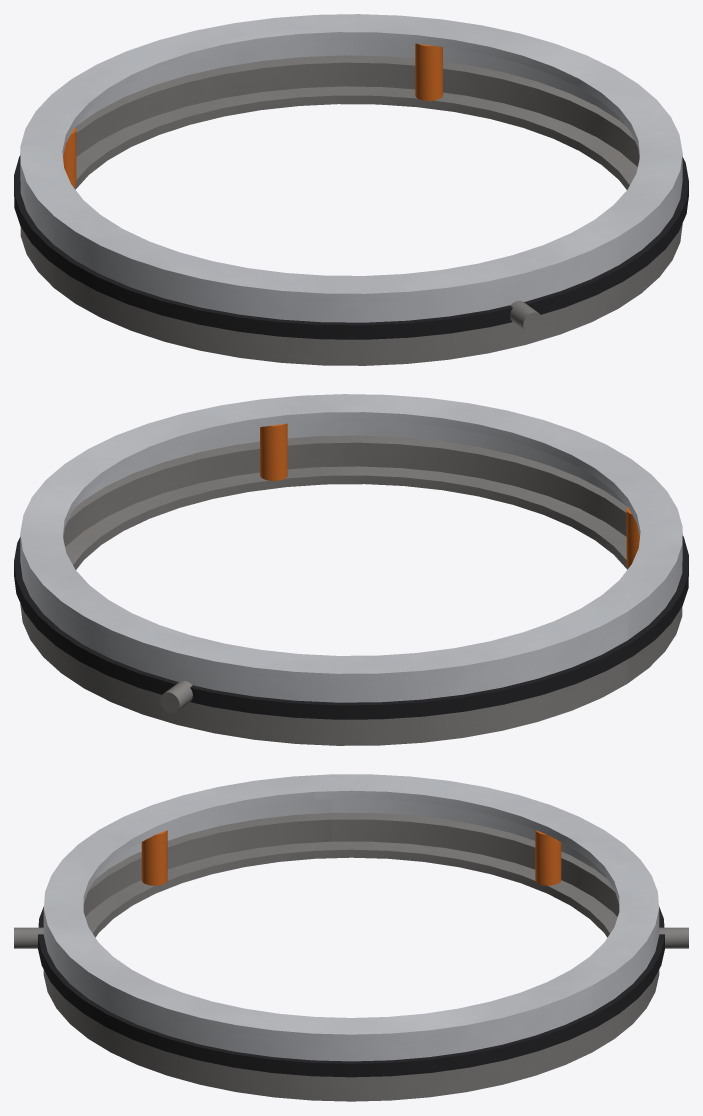
The model's file is stage14_clamp_band_separator_s.glb.
3 views of the same model, one above another, from view 1: azimuth 30°, elevation 25°; view 2: azimuth 150°, elevation 25°; view 3: azimuth 270°, elevation 25° (orthographic). The views are drawn at different scales.
Visible parts, largest first — view 1: half_b_ring, lower_ring, clamp_band, springs, band_bolts; view 2: half_b_ring, lower_ring, clamp_band, springs, band_bolts; view 3: half_b_ring, lower_ring, clamp_band, springs, band_bolts.
Boxes of the visible parts, bbox=[...] form: half_b_ring: bbox=[20, 14, 682, 322]; lower_ring: bbox=[20, 55, 682, 365]; clamp_band: bbox=[14, 155, 688, 339]; springs: bbox=[63, 43, 442, 187]; band_bolts: bbox=[510, 300, 542, 333]; half_b_ring: bbox=[20, 394, 682, 702]; lower_ring: bbox=[20, 435, 682, 745]; clamp_band: bbox=[14, 535, 688, 719]; springs: bbox=[260, 423, 639, 567]; band_bolts: bbox=[160, 680, 192, 713]; half_b_ring: bbox=[43, 774, 659, 1061]; lower_ring: bbox=[43, 813, 659, 1101]; clamp_band: bbox=[38, 906, 664, 1077]; springs: bbox=[141, 830, 561, 885]; band_bolts: bbox=[14, 927, 688, 948].
Size of the model in its own units: 1.27 by 0.15 by 1.37.
Materials: 4 (2 with a texture image).
